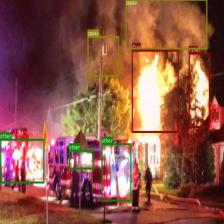fire: (132, 50, 178, 132), (188, 53, 210, 128)
smoke: (125, 0, 207, 49), (87, 36, 119, 76)
